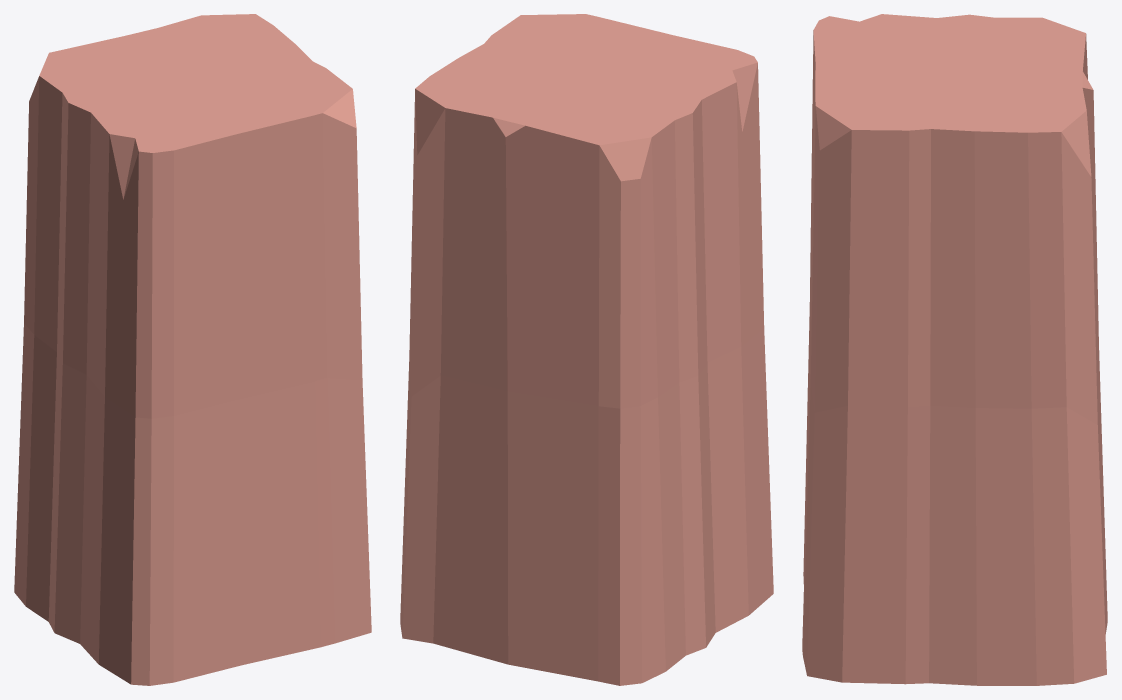
The model's file is SuperGrid_Cube5.fbx.
3 views of the same model, side by side, from view 1: azimuth 30°, elevation 25°; view 2: azimuth 150°, elevation 25°; view 3: azimuth 270°, elevation 25° (orthographic). The views are drawn at different scales.
Visible parts, largest first — view 1: SuperGrid_Cube5; view 2: SuperGrid_Cube5; view 3: SuperGrid_Cube5.
Boxes of the visible parts, left/top/right/bottom form: SuperGrid_Cube5: left=14, top=14, right=371, bottom=685; SuperGrid_Cube5: left=400, top=14, right=773, bottom=685; SuperGrid_Cube5: left=802, top=14, right=1107, bottom=685.
Size of the model in its own units: 256 by 500 by 253.
